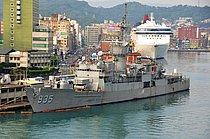MIL_Ship: (23, 40, 191, 113)
